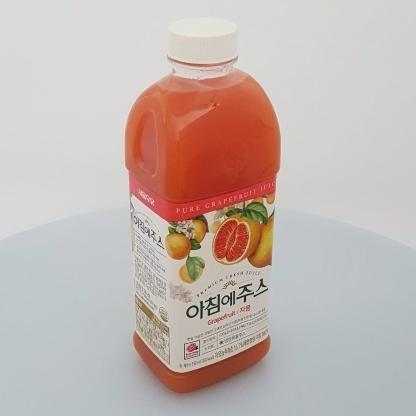-----------950ML: (124, 17, 281, 393)
